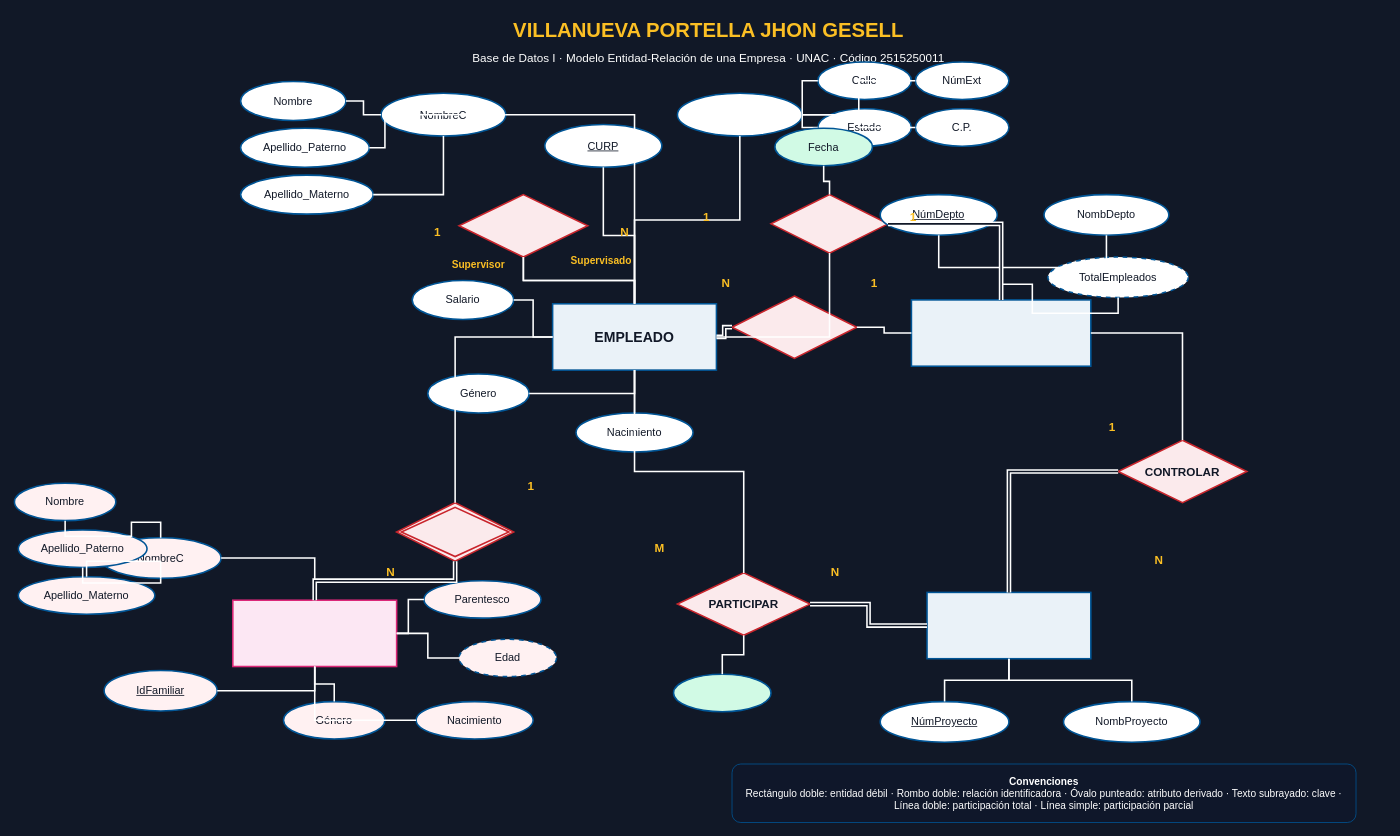
Image size: 1400x836. Some labels were removed from this diagram. The centre of each missing label's shape, as x and y in pixels:
"ASIGNAR" belongs at [794,327].
"DEPARTAMENTO" belongs at [1000,333].
"Dirección" belongs at [739,114].
"DIRIGIR" belongs at [829,223].
"FAMILIAR" belongs at [314,633].
"Horas" belongs at [721,692].
"PROYECTO" belongs at [1008,625].
"SUPERVISAR" belongs at [523,225].
"TENER" belongs at [454,532].
